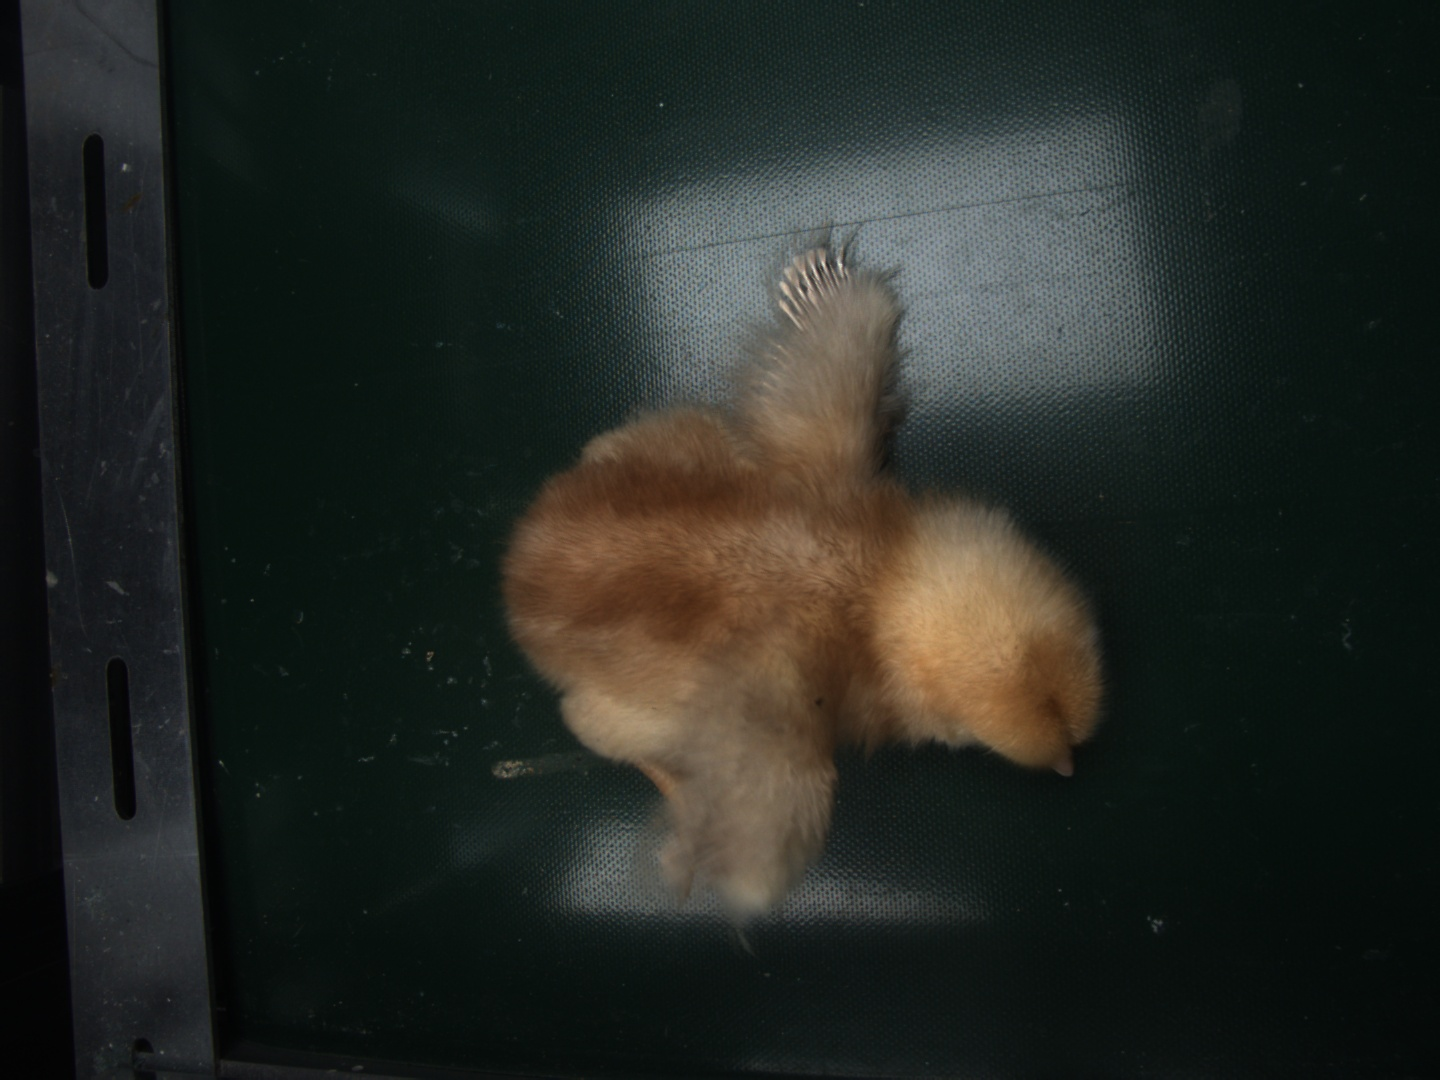female: (776, 248, 854, 324)
